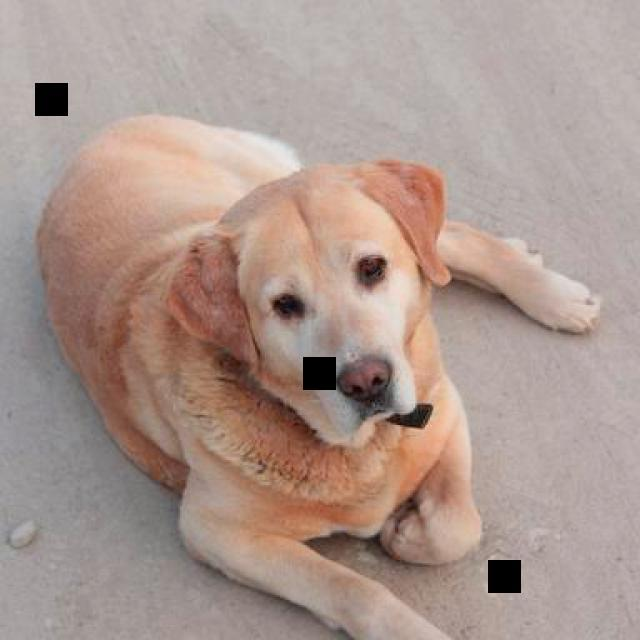adult_dog: (36, 114, 603, 639)
